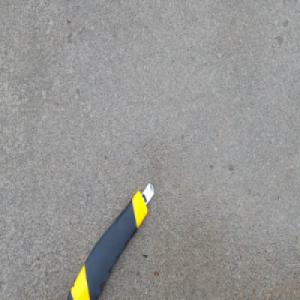Cutter: (66, 180, 157, 299)
